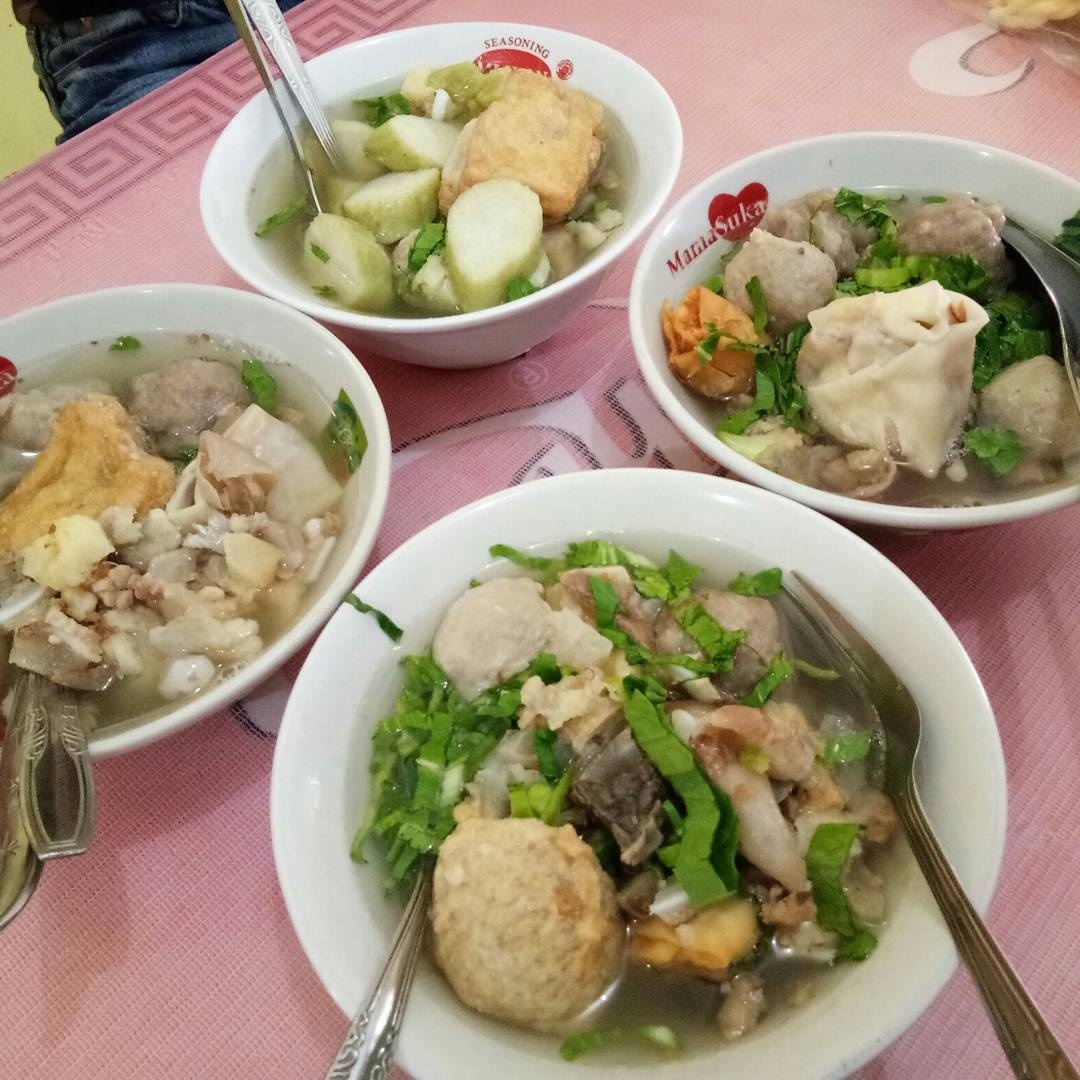bakso_malang: (350, 536, 900, 1051), (657, 183, 1080, 508), (5, 332, 347, 697)
